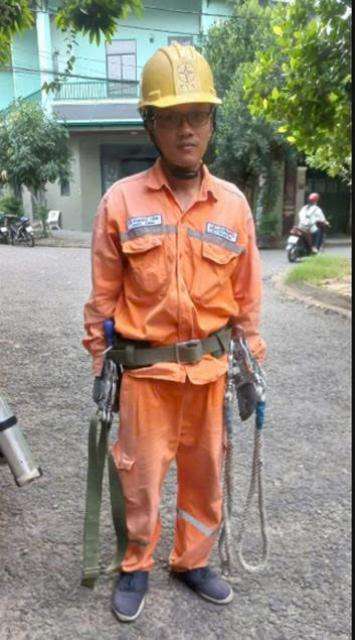harness: (94, 330, 264, 378)
helmet: (135, 28, 231, 116)
shoes: (167, 544, 244, 604), (91, 565, 163, 629)
